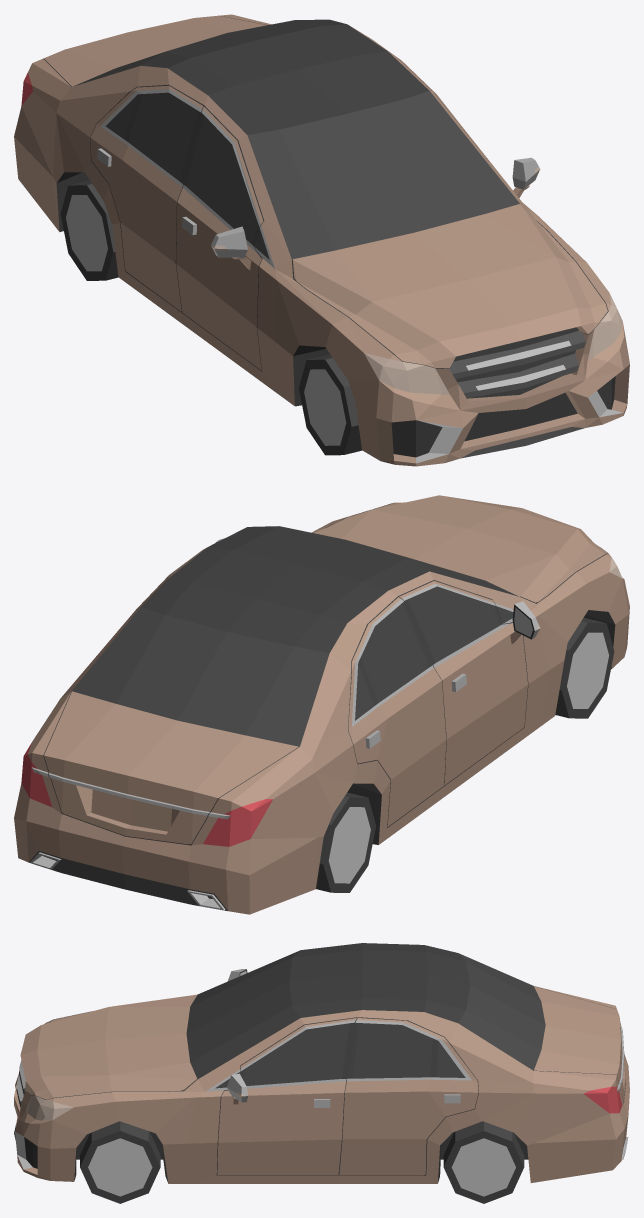
The model's file is CarSedan2Bronze.fbx.
3 views of the same model, one above another, from view 1: azimuth 30°, elevation 25°; view 2: azimuth 150°, elevation 25°; view 3: azimuth 270°, elevation 25° (orthographic). The views are drawn at different scales.
Parts seen in each view (by area): view 1: Cube, wheel_fr, wheel_rr; view 2: Cube, wheel_rr, wheel_fr; view 3: Cube, wheel_rl, wheel_fl.
Part boxes in pixels (bbox=[...]): Cube: bbox=[14, 14, 629, 466]; wheel_fr: bbox=[299, 354, 361, 455]; wheel_rr: bbox=[60, 180, 118, 280]; Cube: bbox=[14, 495, 629, 914]; wheel_rr: bbox=[316, 792, 375, 892]; wheel_fr: bbox=[555, 617, 614, 718]; Cube: bbox=[14, 943, 629, 1183]; wheel_rl: bbox=[443, 1121, 524, 1203]; wheel_fl: bbox=[80, 1121, 160, 1203].
Size of the model in its own units: 2.38 by 1.66 by 5.11.
